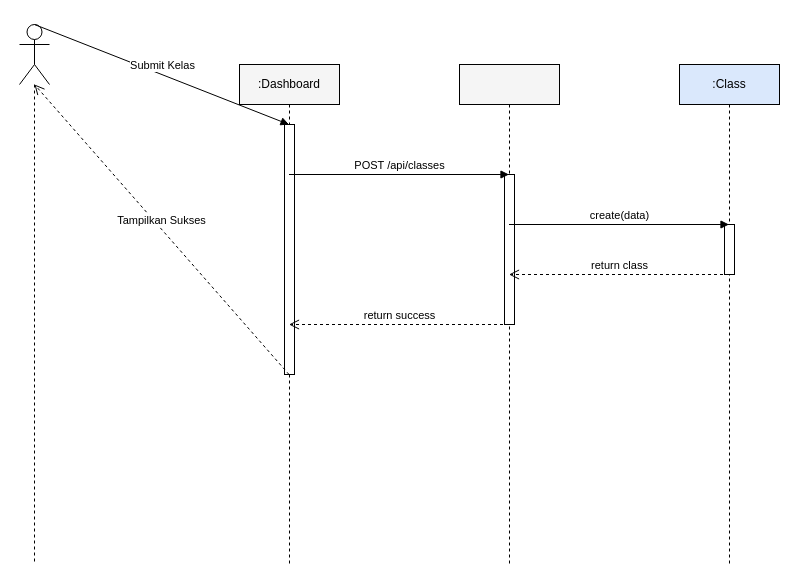
Image size: 797x583. Some labels were removed from this diagram. The shapes that lost their labels are listed below. From the top down, each one's box as (x1, y1, x2, y2) in pixels, then its label:
(18, 24, 50, 84): Admin
(458, 64, 560, 564): :Backend
